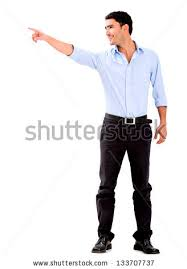hand: (21, 22, 50, 46)
